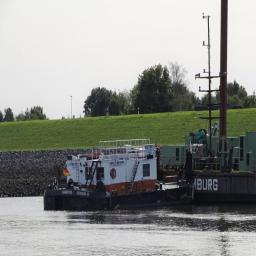tugboat: (44, 138, 197, 217)
